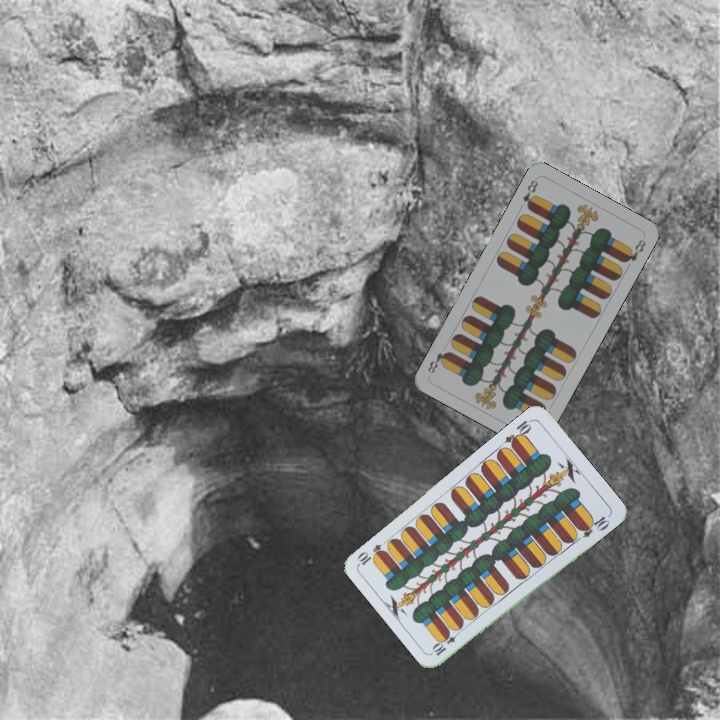E10: (501, 415, 535, 450), (429, 625, 464, 658)
E8: (518, 176, 541, 212)
